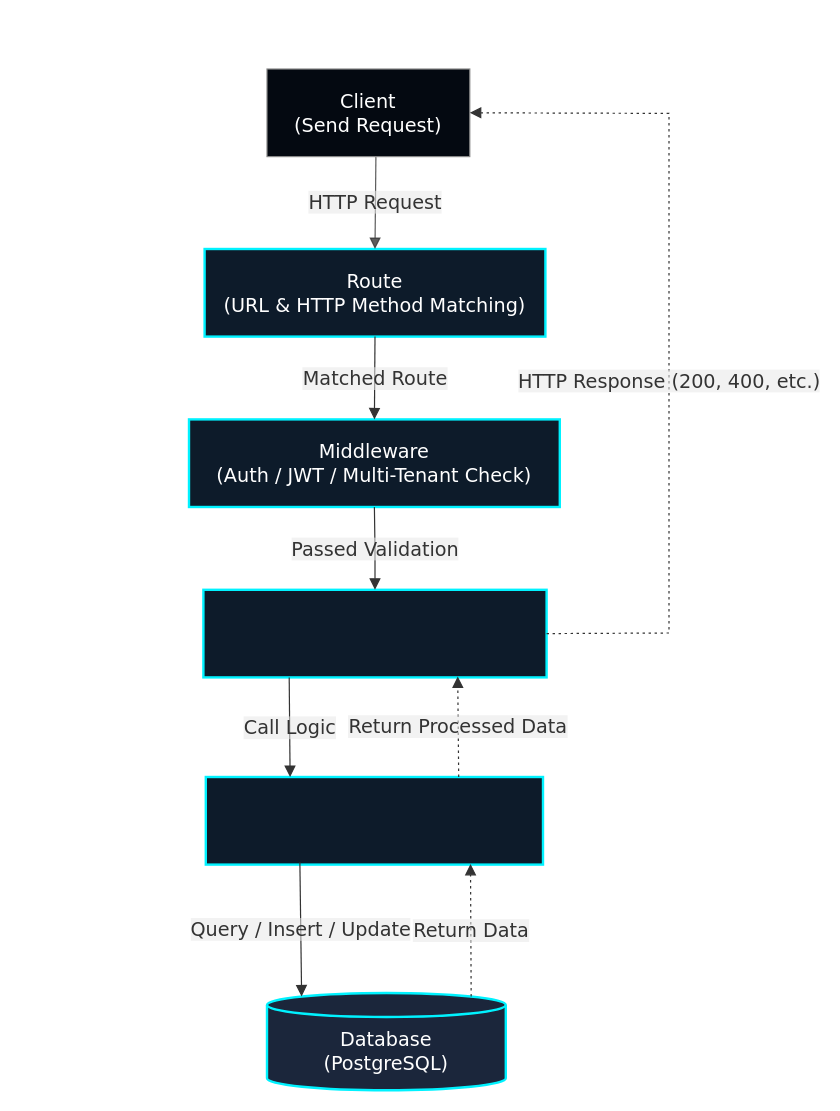
Image size: 840x1111. Some labels were removed from this diagram. Each missing label, with the box of its shape:
Controller (Req/Res Handling & Transport): (202, 588, 547, 678)
Service (Business Logic & Rules): (204, 775, 544, 865)
